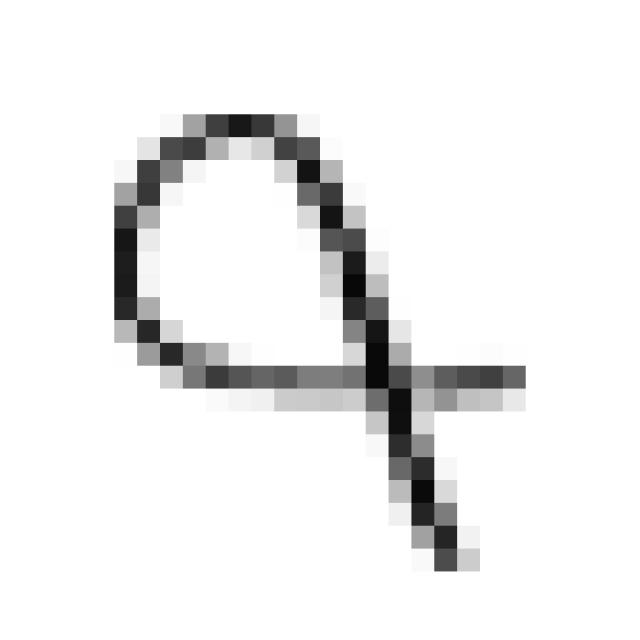9 -nine-: (89, 83, 544, 586)
